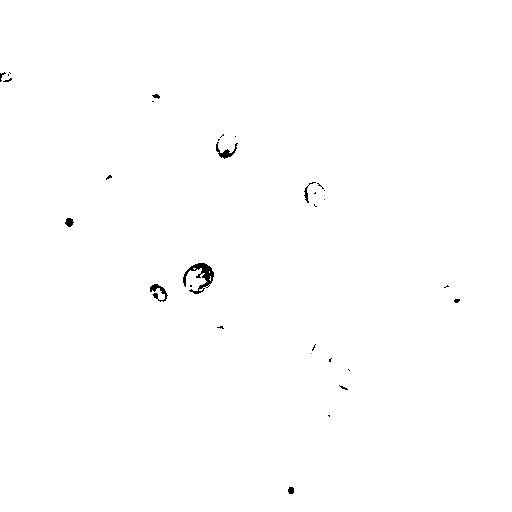micro-algae: (47, 147, 117, 219), (477, 77, 511, 143), (95, 162, 137, 199), (307, 332, 341, 373), (183, 261, 216, 298), (464, 335, 499, 369), (433, 281, 471, 311), (273, 469, 303, 499), (214, 129, 241, 161), (55, 207, 83, 235), (304, 181, 328, 211), (329, 364, 356, 390), (148, 282, 169, 303), (229, 233, 243, 255), (1, 69, 15, 83)
